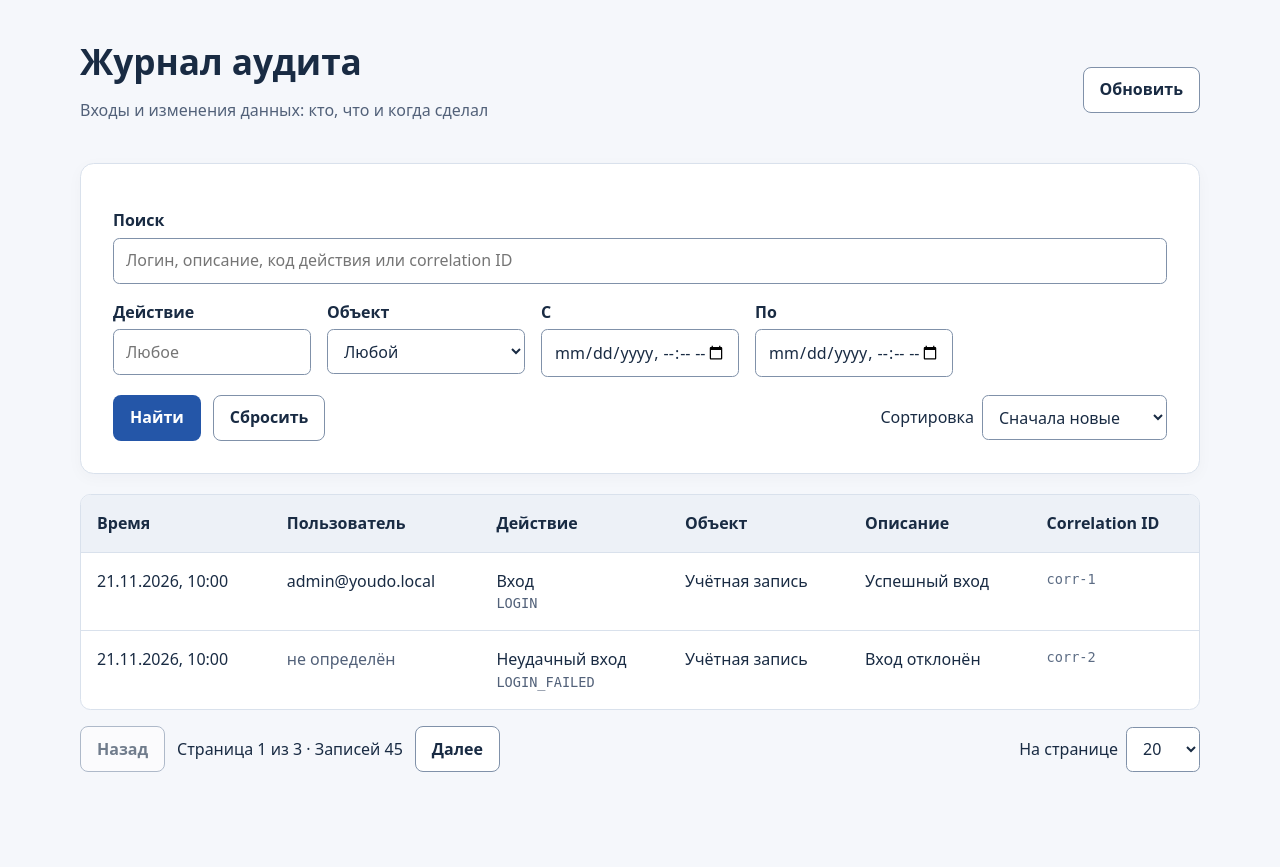
Test: AuditPage › не отправляет запрос, если начало периода позже конца
Expected: the text "Успешный вход" is shown, x1=849 y1=553 x2=1031 y2=631
In the field labelled "С": (640, 353) x1=541 y1=329 x2=739 y2=377, type "2026-11-21T12:00"
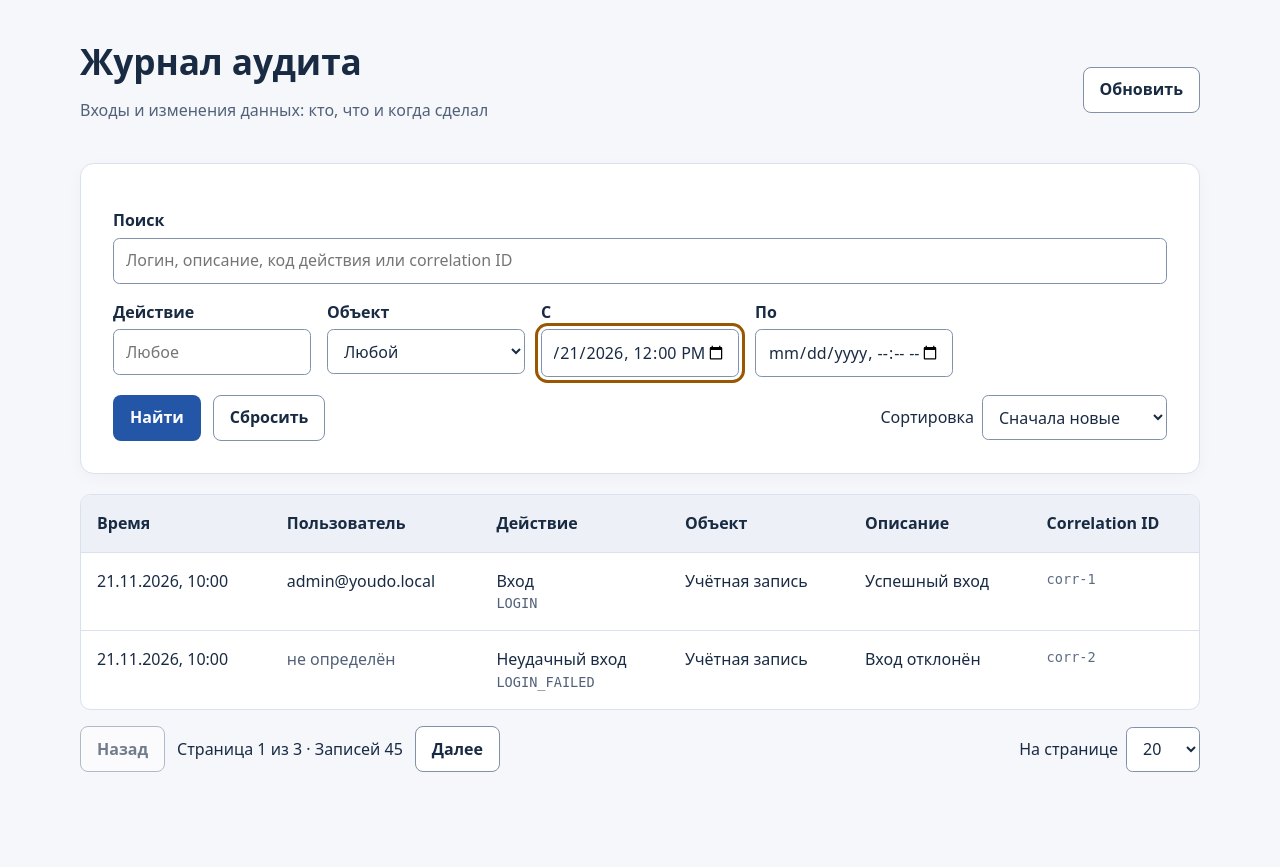
In the field labelled "По": (854, 353) x1=755 y1=329 x2=953 y2=377, type "2026-11-21T10:00"
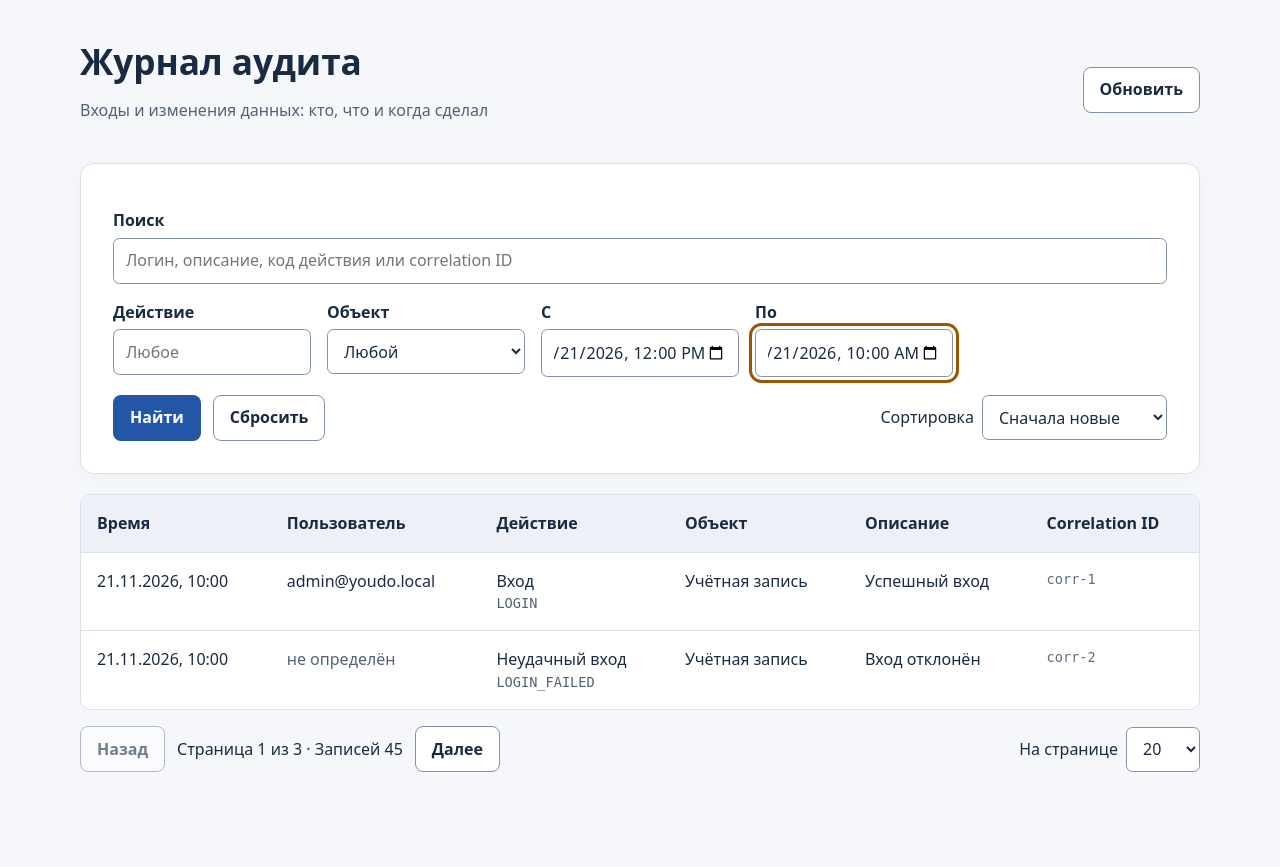
Click the button "Найти": (157, 418) x1=113 y1=395 x2=201 y2=441
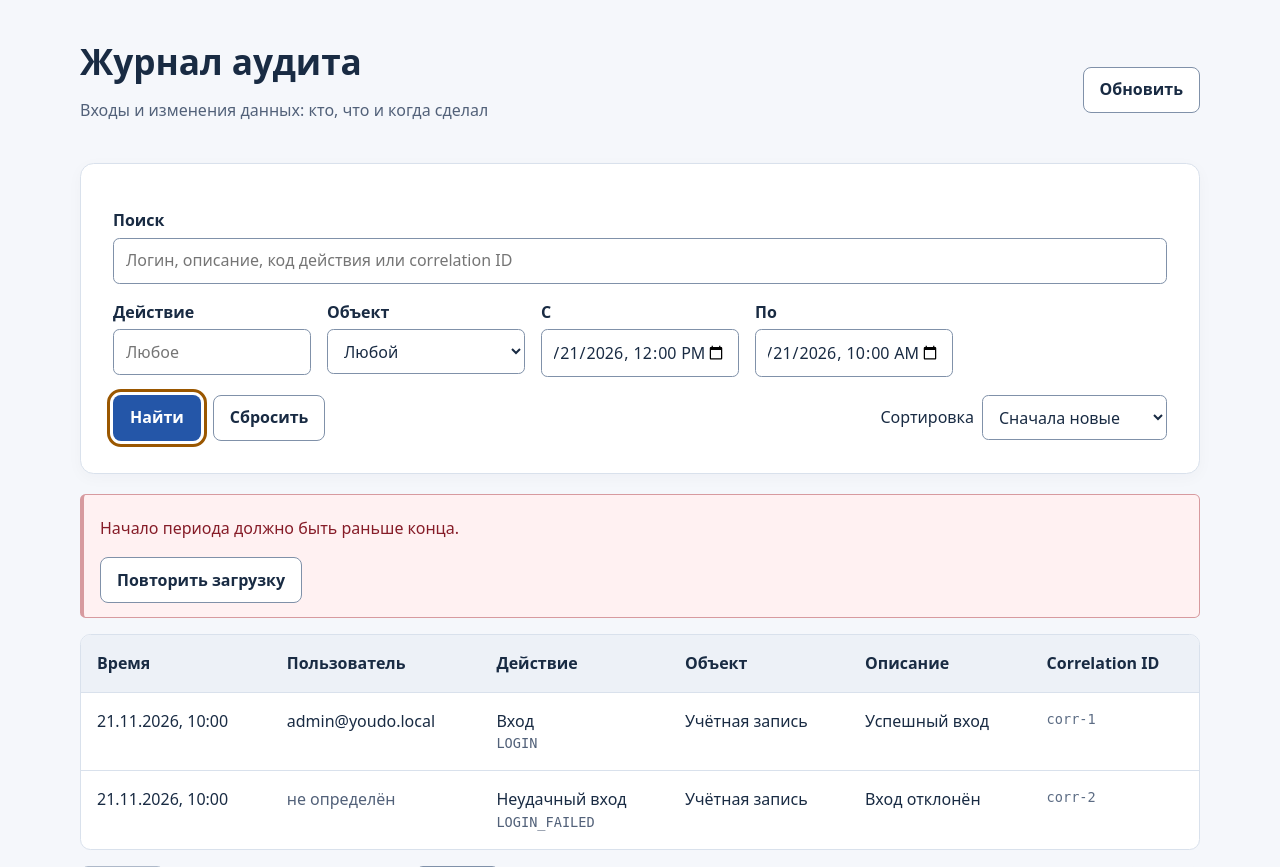
Expected: the text "Начало периода должно быть раньше конца." is shown, x1=100 y1=517 x2=459 y2=539
